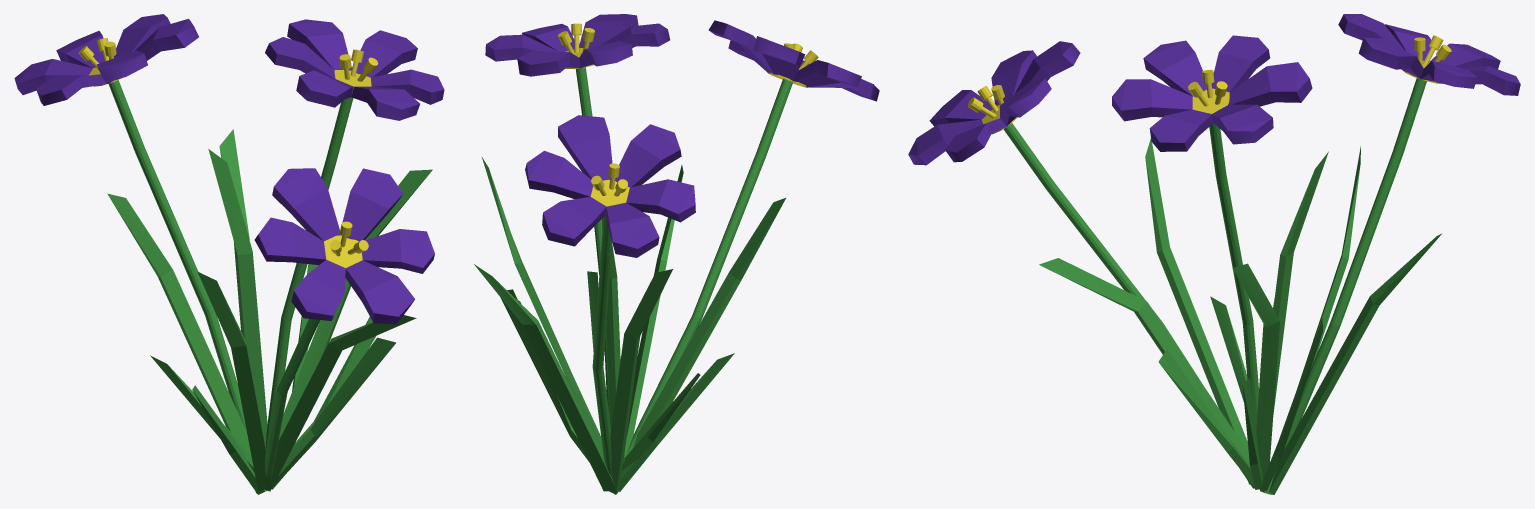
Rendered from modelDraco.gltf.
The picture shows the model from 3 angles, left to right: view 1: azimuth 30°, elevation 25°; view 2: azimuth 150°, elevation 25°; view 3: azimuth 270°, elevation 25°; orthographic projection. The views are drawn at different scales.
Parts seen in each view (by area): view 1: node_MeshObject-1878116352-PolyPaper21; view 2: node_MeshObject-1878116352-PolyPaper21; view 3: node_MeshObject-1878116352-PolyPaper21.
Part boxes in pixels (bbox=[...]): node_MeshObject-1878116352-PolyPaper21: bbox=[14, 14, 444, 494]; node_MeshObject-1878116352-PolyPaper21: bbox=[474, 14, 879, 494]; node_MeshObject-1878116352-PolyPaper21: bbox=[908, 14, 1520, 494].
Bounding box in the file's own units: 0.3173 × 0.4474 × 0.5422.
